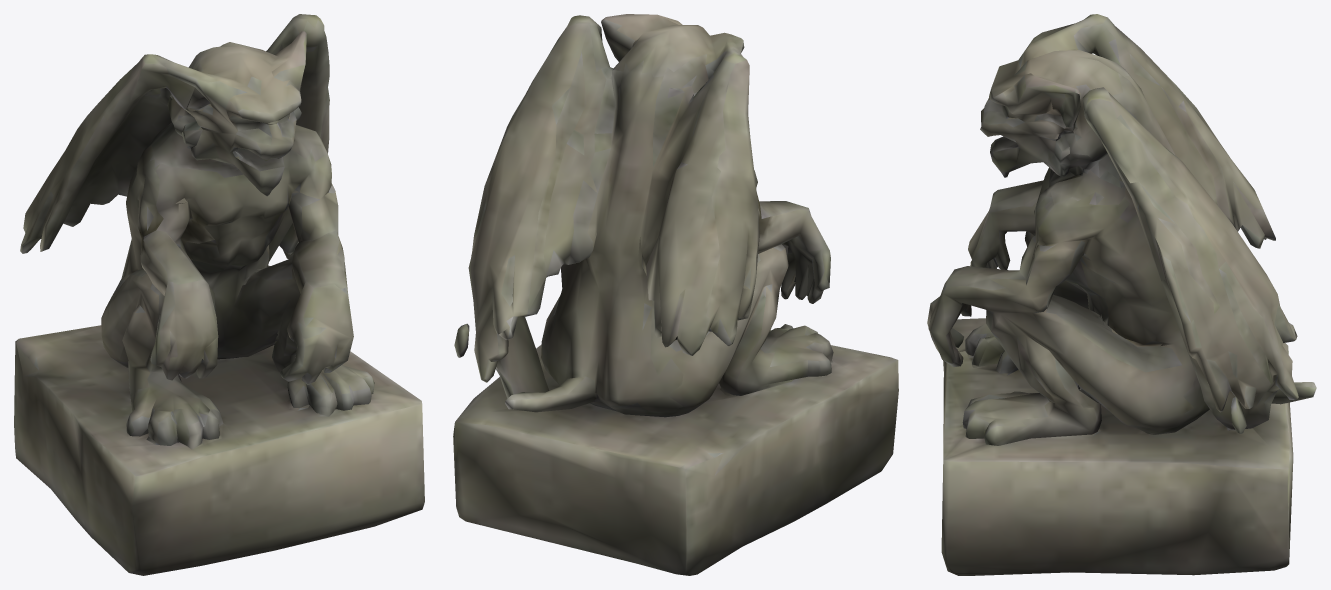
Rendered from weathered-limestone-gargoyle-v001.glb.
The picture shows the model from 3 angles, left to right: view 1: azimuth 30°, elevation 25°; view 2: azimuth 150°, elevation 25°; view 3: azimuth 270°, elevation 25°; orthographic projection. The views are drawn at different scales.
Parts seen in each view (by area): view 1: weathered-limestone-gargoyle; view 2: weathered-limestone-gargoyle; view 3: weathered-limestone-gargoyle.
Boxes of the visible parts, x1,y1,x2,y2 form: weathered-limestone-gargoyle: (14,14,424,575); weathered-limestone-gargoyle: (453,14,898,575); weathered-limestone-gargoyle: (927,14,1316,575).
Bounding box in the file's own units: 0.5116 × 0.7158 × 0.5402.
Materials: 1 (1 with a texture image).
